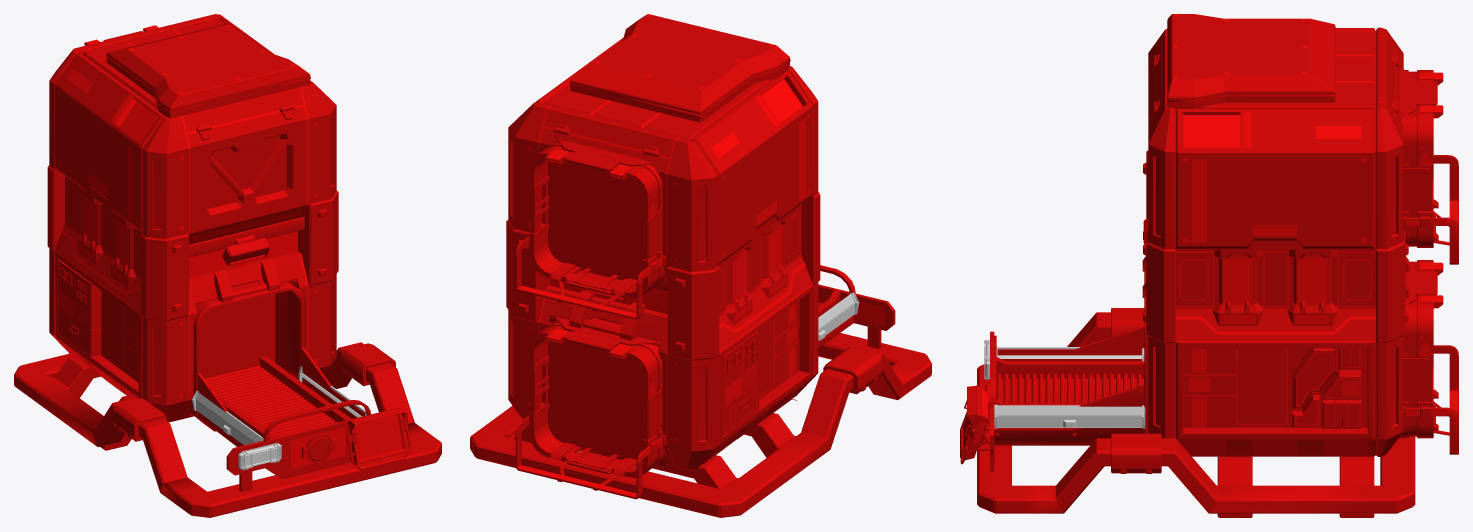
File: IndustrialDispenser_0.2.ex.fbx
The picture shows the model from 3 angles, left to right: view 1: azimuth 30°, elevation 25°; view 2: azimuth 150°, elevation 25°; view 3: azimuth 270°, elevation 25°; orthographic projection. The views are drawn at different scales.
Parts seen in each view (by area): view 1: Miner_Mk3_Static; view 2: Miner_Mk3_Static; view 3: Miner_Mk3_Static.
Boxes of the visible parts, box(x1,y1,x2,y2) form: Miner_Mk3_Static: box(14, 14, 441, 517); Miner_Mk3_Static: box(470, 14, 931, 517); Miner_Mk3_Static: box(960, 14, 1458, 517).
Bounding box in the file's own units: 495 × 646 × 713.
